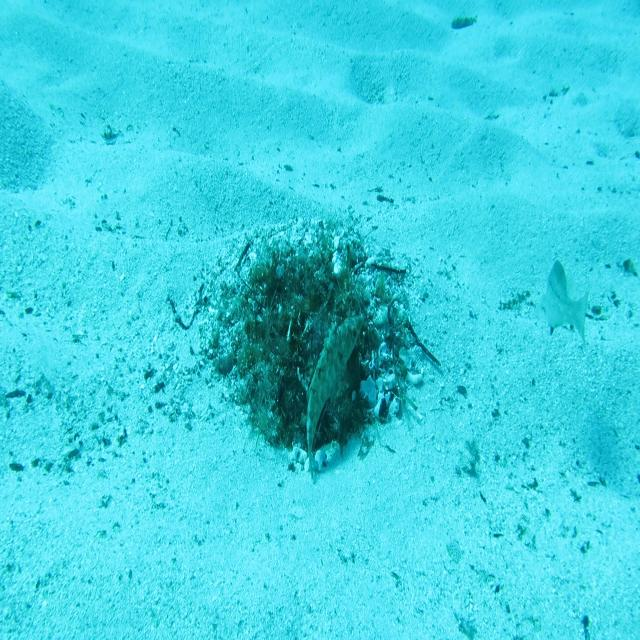LF: (304, 304, 366, 486)
core_nest: (281, 272, 331, 306)
female: (544, 256, 592, 354)
nest: (196, 210, 435, 492)
vegetation: (452, 16, 477, 32)
